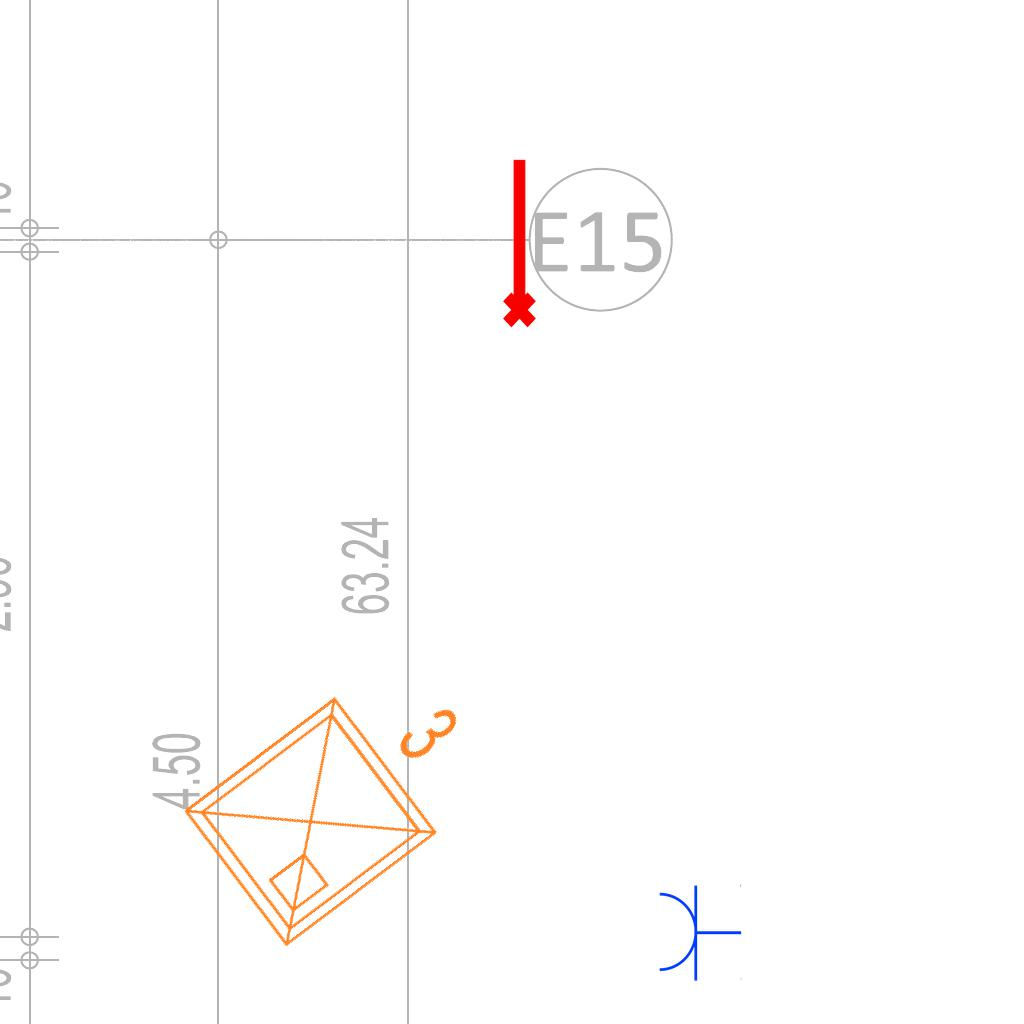ASR_Ansaugoeffnung: (494, 154, 540, 330)
Einbaudownlights_LED_Konferenzraeume: (158, 620, 524, 968)
Schukosteckdose_einfach: (655, 882, 742, 982)
